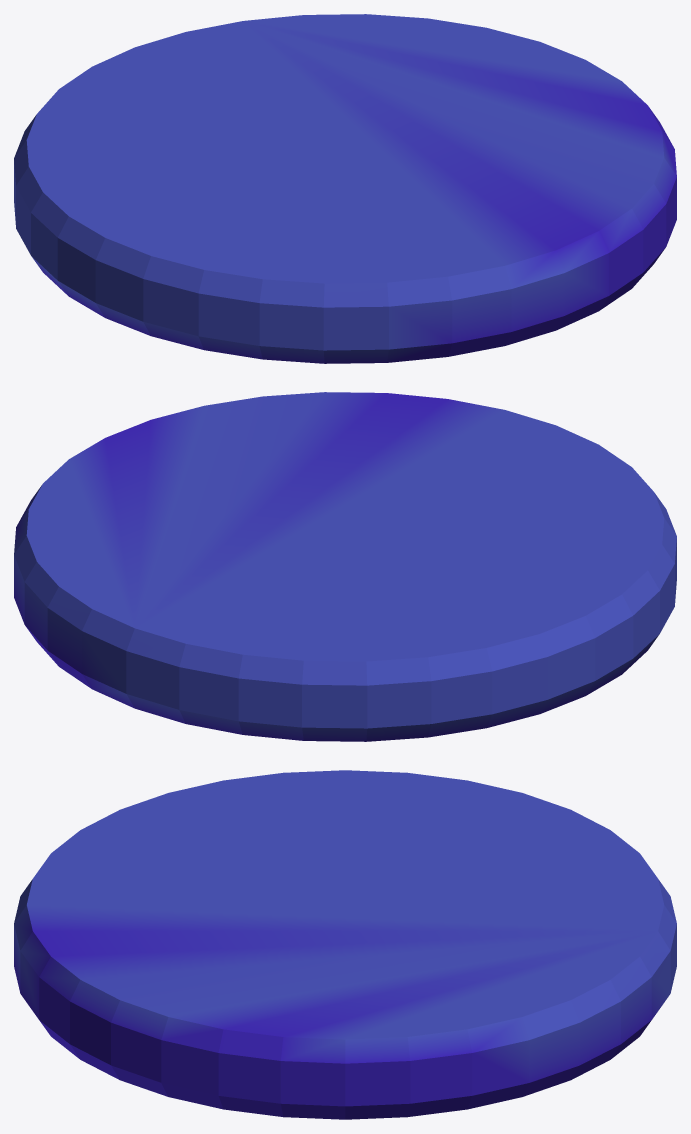
File: blue_middle.fbx
The picture shows the model from 3 angles, top to bottom: view 1: azimuth 30°, elevation 25°; view 2: azimuth 150°, elevation 25°; view 3: azimuth 270°, elevation 25°; orthographic projection.
Visible parts, largest first — view 1: middle blade; view 2: middle blade; view 3: middle blade.
Boxes of the visible parts, box(x1,y1,x2,y2) form: middle blade: box(14, 14, 676, 363); middle blade: box(14, 392, 676, 741); middle blade: box(14, 770, 676, 1119).
Bounding box in the file's own units: 600 × 80 × 600.
